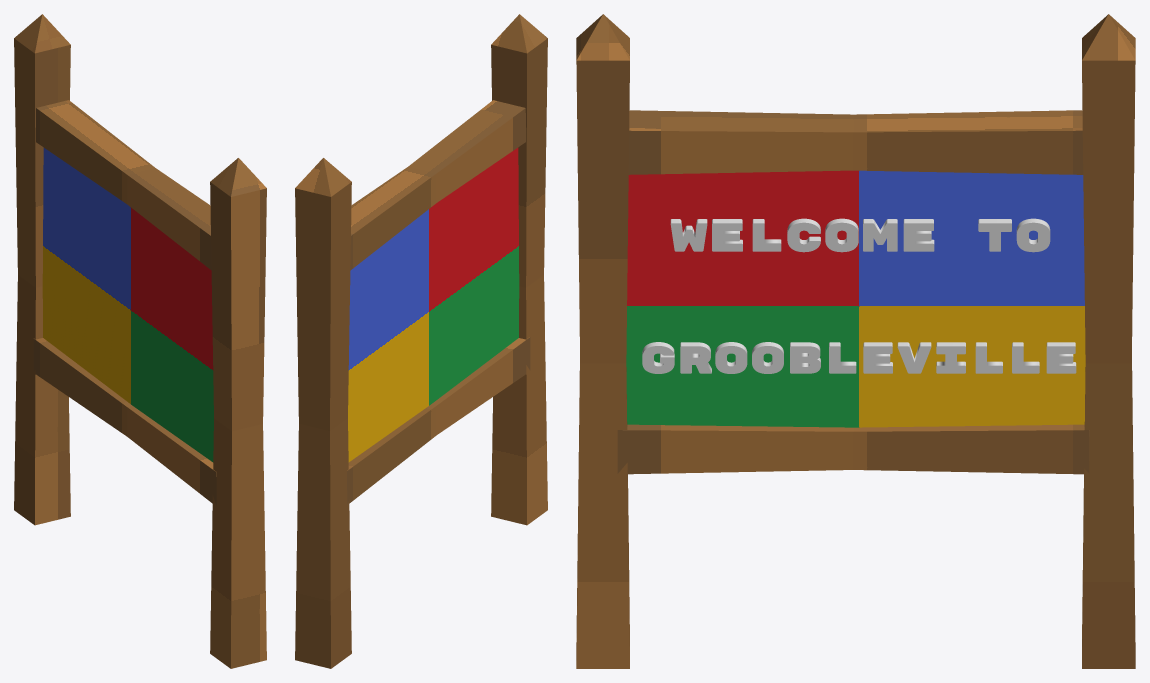
File: WelcomeSign.glb
3 views of the same model, side by side, from view 1: azimuth 30°, elevation 25°; view 2: azimuth 150°, elevation 25°; view 3: azimuth 270°, elevation 25° (orthographic). The views are drawn at different scales.
Visible parts, largest first — view 1: WelcomeSign; view 2: WelcomeSign; view 3: WelcomeSign.
Boxes of the visible parts, x1,y1,x2,y2 form: WelcomeSign: [14, 14, 266, 668]; WelcomeSign: [295, 14, 547, 668]; WelcomeSign: [576, 14, 1135, 668].
Size of the model in its own units: 0.4195 by 5.55 by 4.37.
3 materials, 2 textured.
